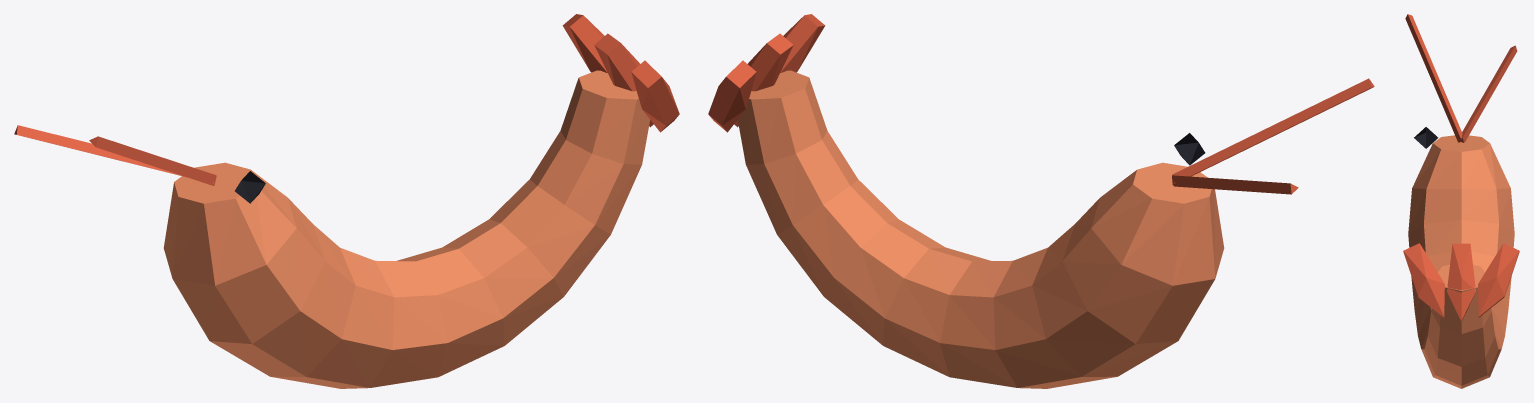
The model's file is Food_Shrimp.obj.
3 renders of one model, left to right at view 1: azimuth 30°, elevation 25°; view 2: azimuth 150°, elevation 25°; view 3: azimuth 270°, elevation 25°, orthographic. The views are drawn at different scales.
Bounding box in the file's own units: 2.71 × 1.52 × 0.658.
